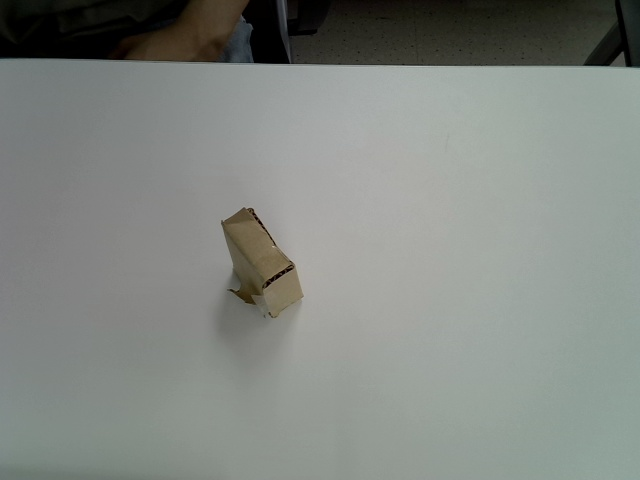defect: (221, 207, 305, 320)
